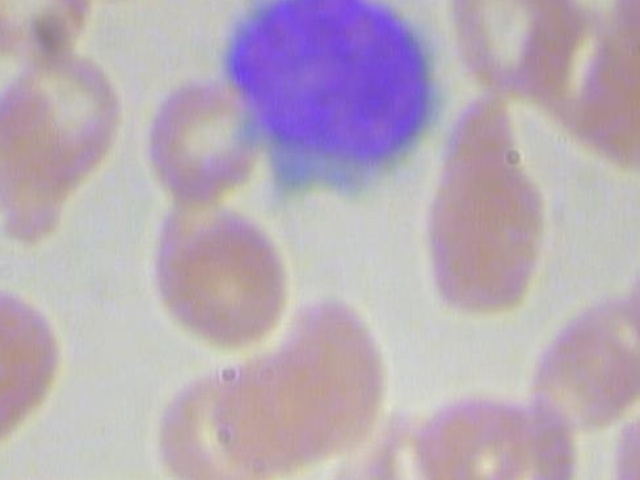RBC: (0, 48, 145, 248), (422, 87, 547, 317), (153, 203, 293, 358), (520, 286, 640, 434), (140, 78, 268, 210), (0, 0, 96, 58)
WBC: (200, 0, 461, 207)
